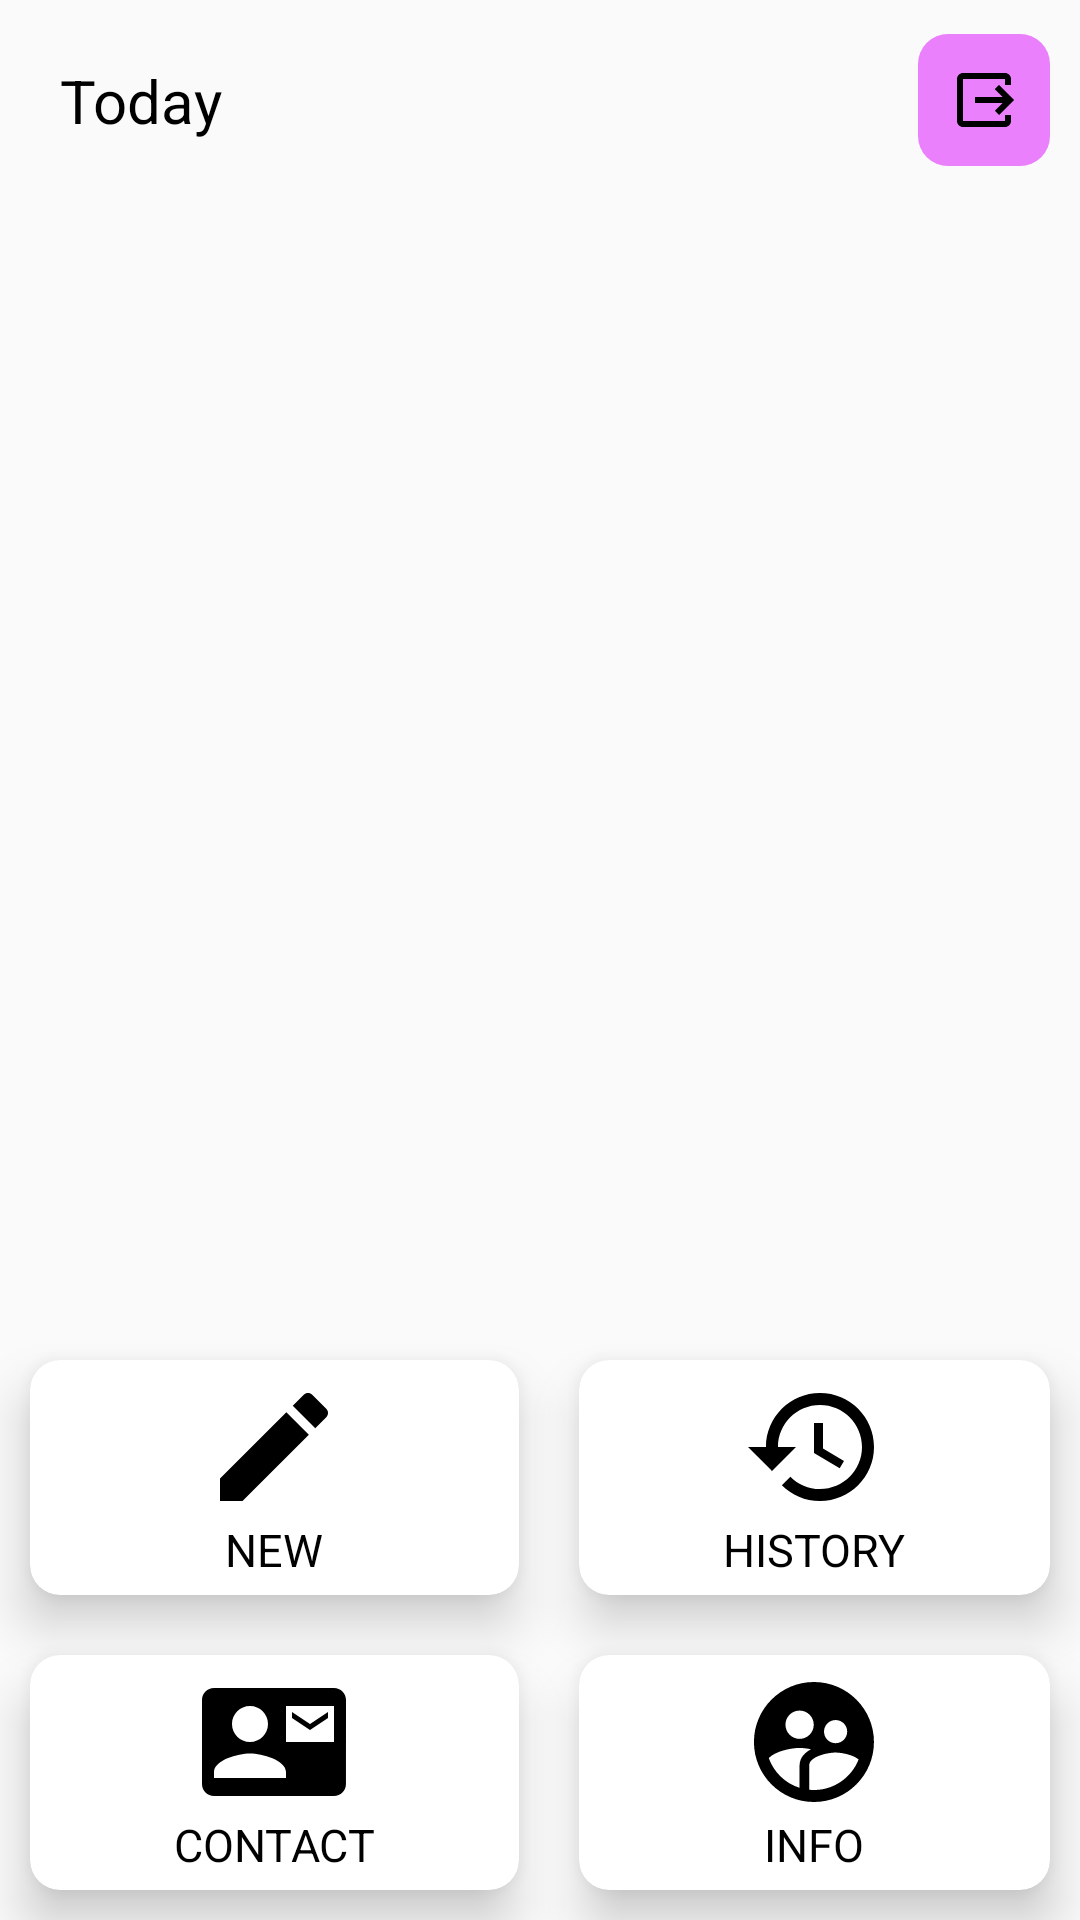

Named icons in this screenshot (1080px×1920px) and their bounding boxes, [x1,y1,x2,y2]:
create: [220,1393,328,1501]
output: [918,34,1050,166]
supervised user circle: [754,1682,874,1802]
